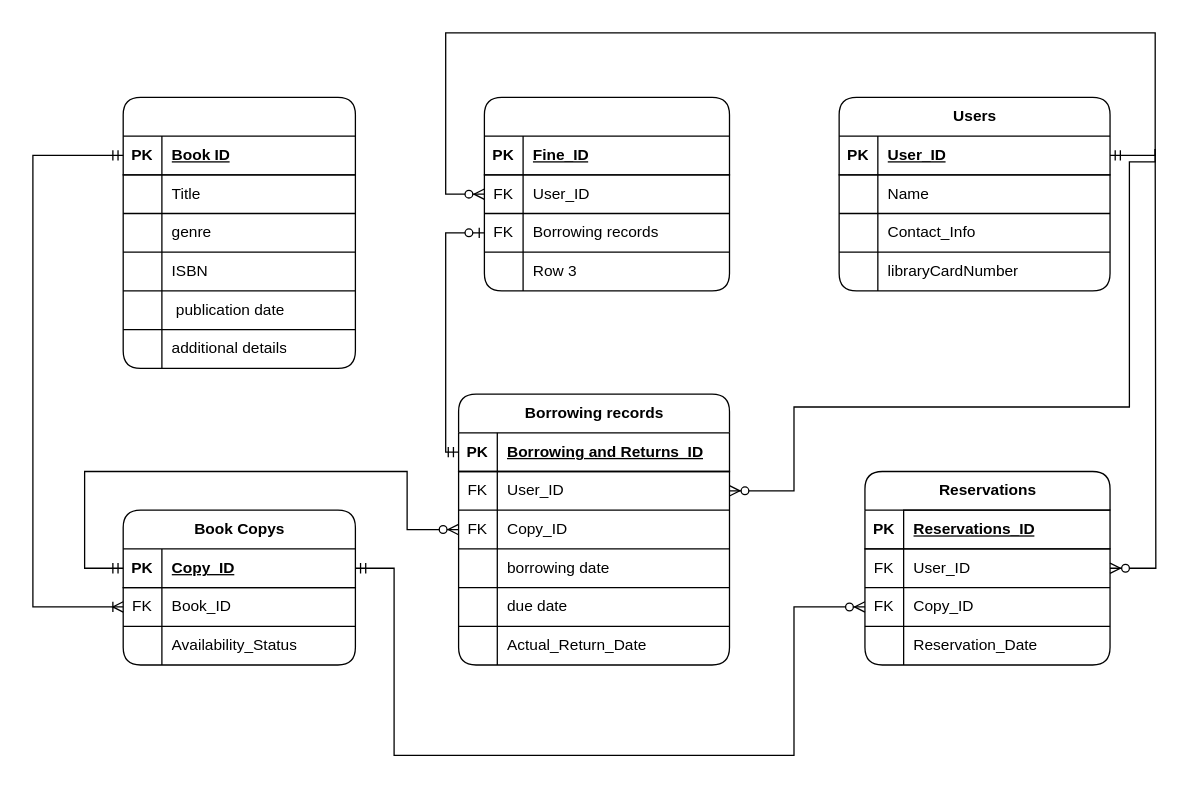
Some shapes in this 1189 by 789 pixel diagram are drawn without their labels. Each missing label, with the box of its shape:
Books: (122, 96, 355, 368)
Fines: (483, 96, 729, 291)
